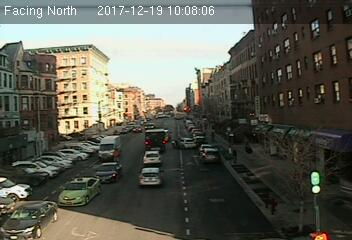car: (3, 200, 60, 240), (56, 175, 103, 207), (94, 162, 122, 183), (139, 167, 163, 185), (141, 150, 162, 166), (200, 148, 220, 164), (172, 136, 195, 149)
truck: (98, 135, 119, 161)
ups: (144, 128, 167, 152)
